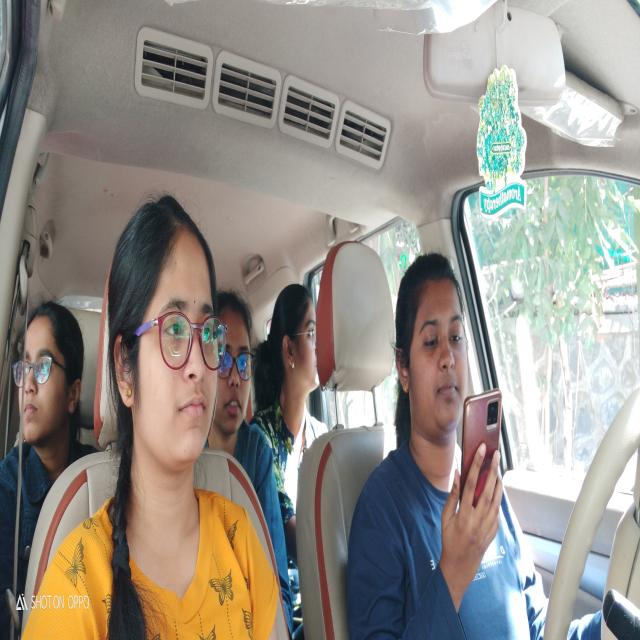mobile: (458, 385, 509, 528)
person: (108, 190, 224, 481), (394, 245, 473, 458), (13, 297, 88, 447), (269, 281, 321, 429), (218, 278, 254, 444)
